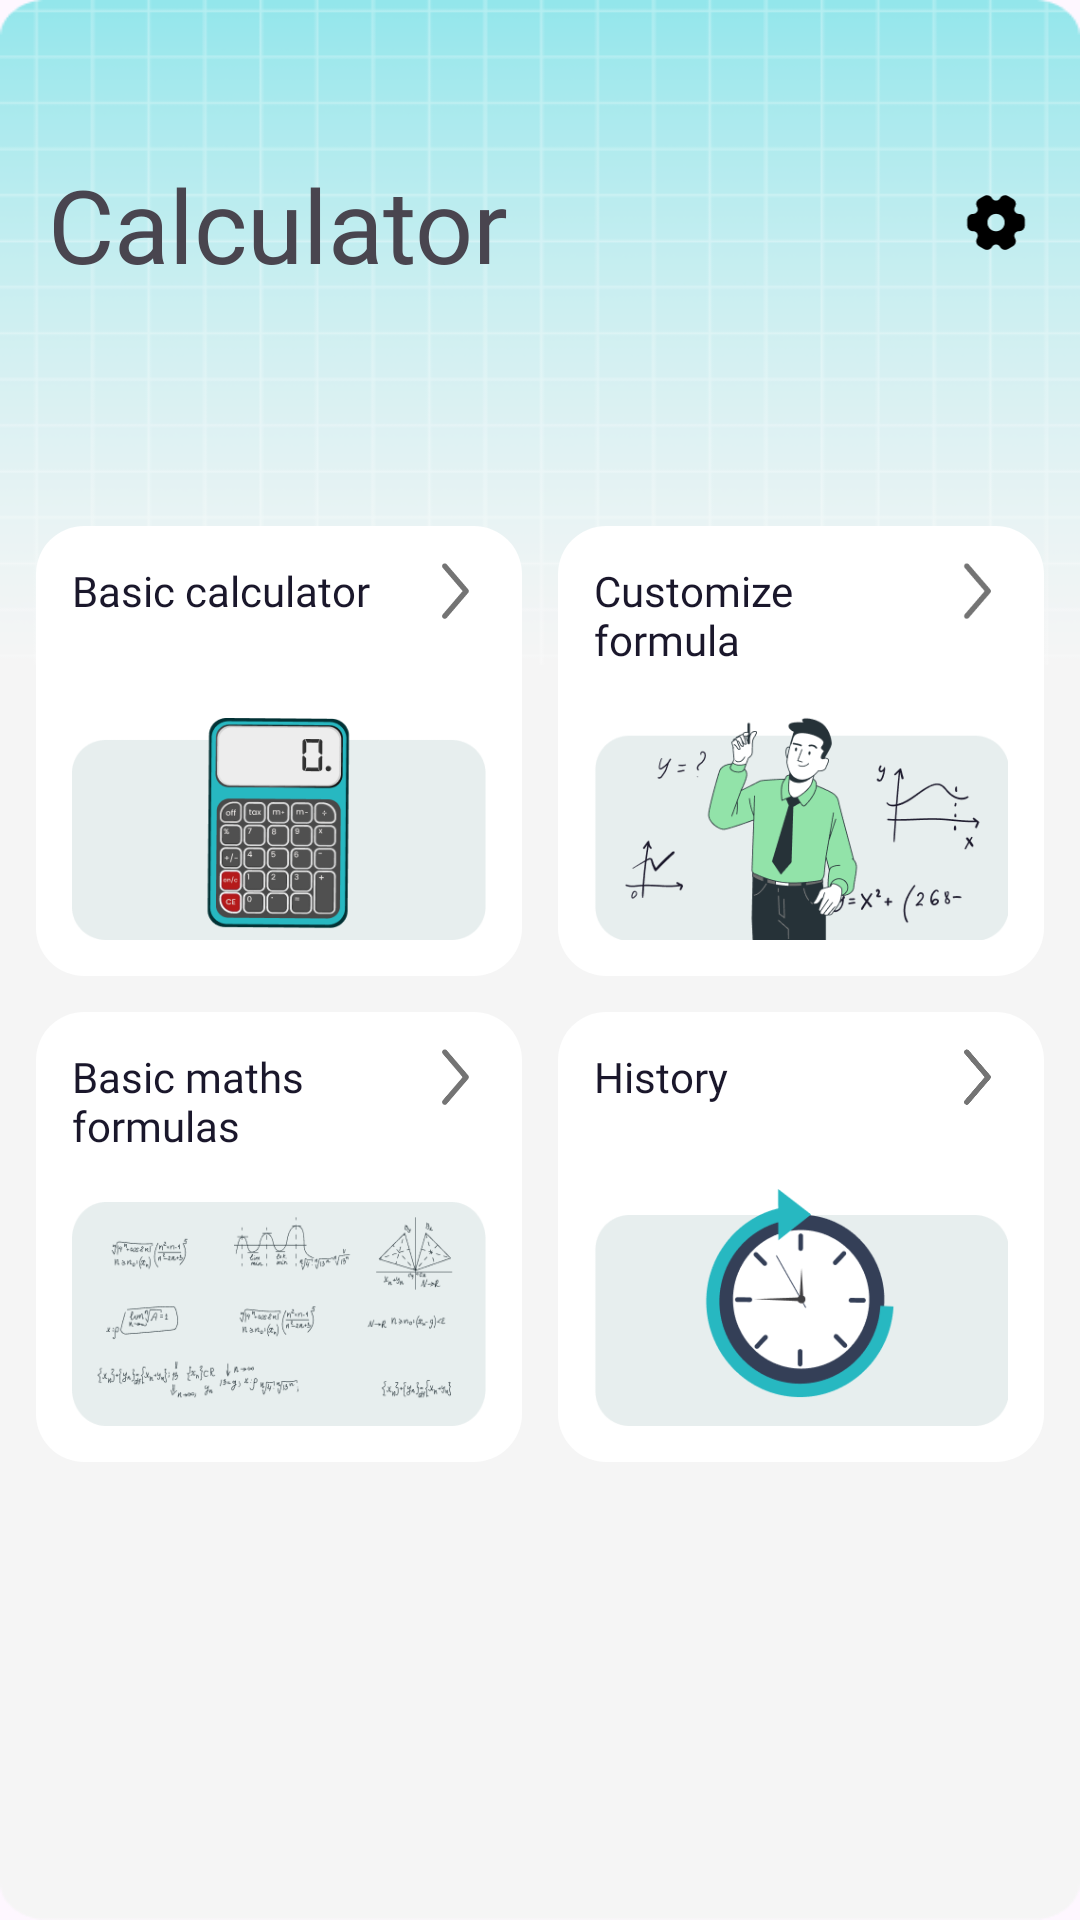

Screen size 1080*1920. Icon name, then its center in pixels as point (x, y):
next home: point (455, 591), point (977, 591), point (455, 1077), point (977, 1077)
setting: point (996, 222)
